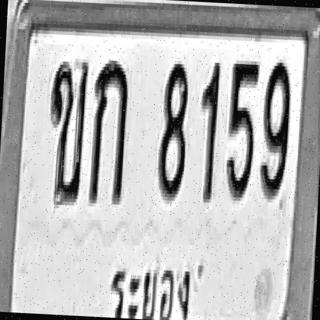A01: (88, 56, 130, 205)
A02: (45, 58, 89, 206)
N01: (196, 59, 220, 203)
N05: (224, 57, 260, 202)
N08: (156, 60, 190, 201)
N09: (258, 59, 292, 200)
P53: (104, 258, 196, 320)
